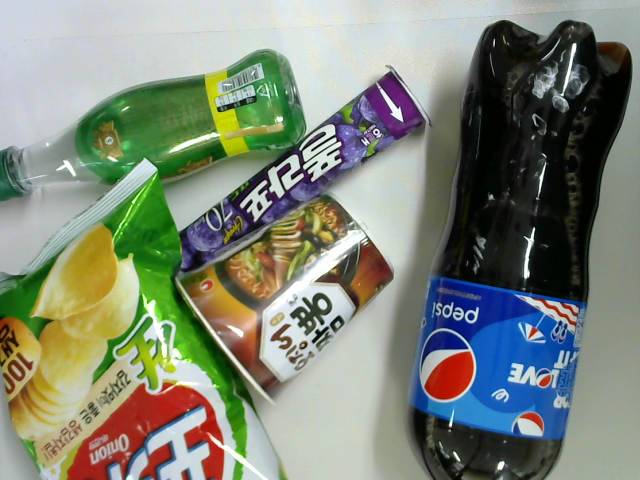Ojjam: (174, 189, 398, 407)
Pepsi_Cola_1.5L: (404, 18, 632, 480)
Pocachip_Onion: (1, 155, 296, 480)
Polapo_Grape: (168, 59, 436, 274)
Seagram_Lemon_Carbonated_Water: (1, 46, 310, 206)
